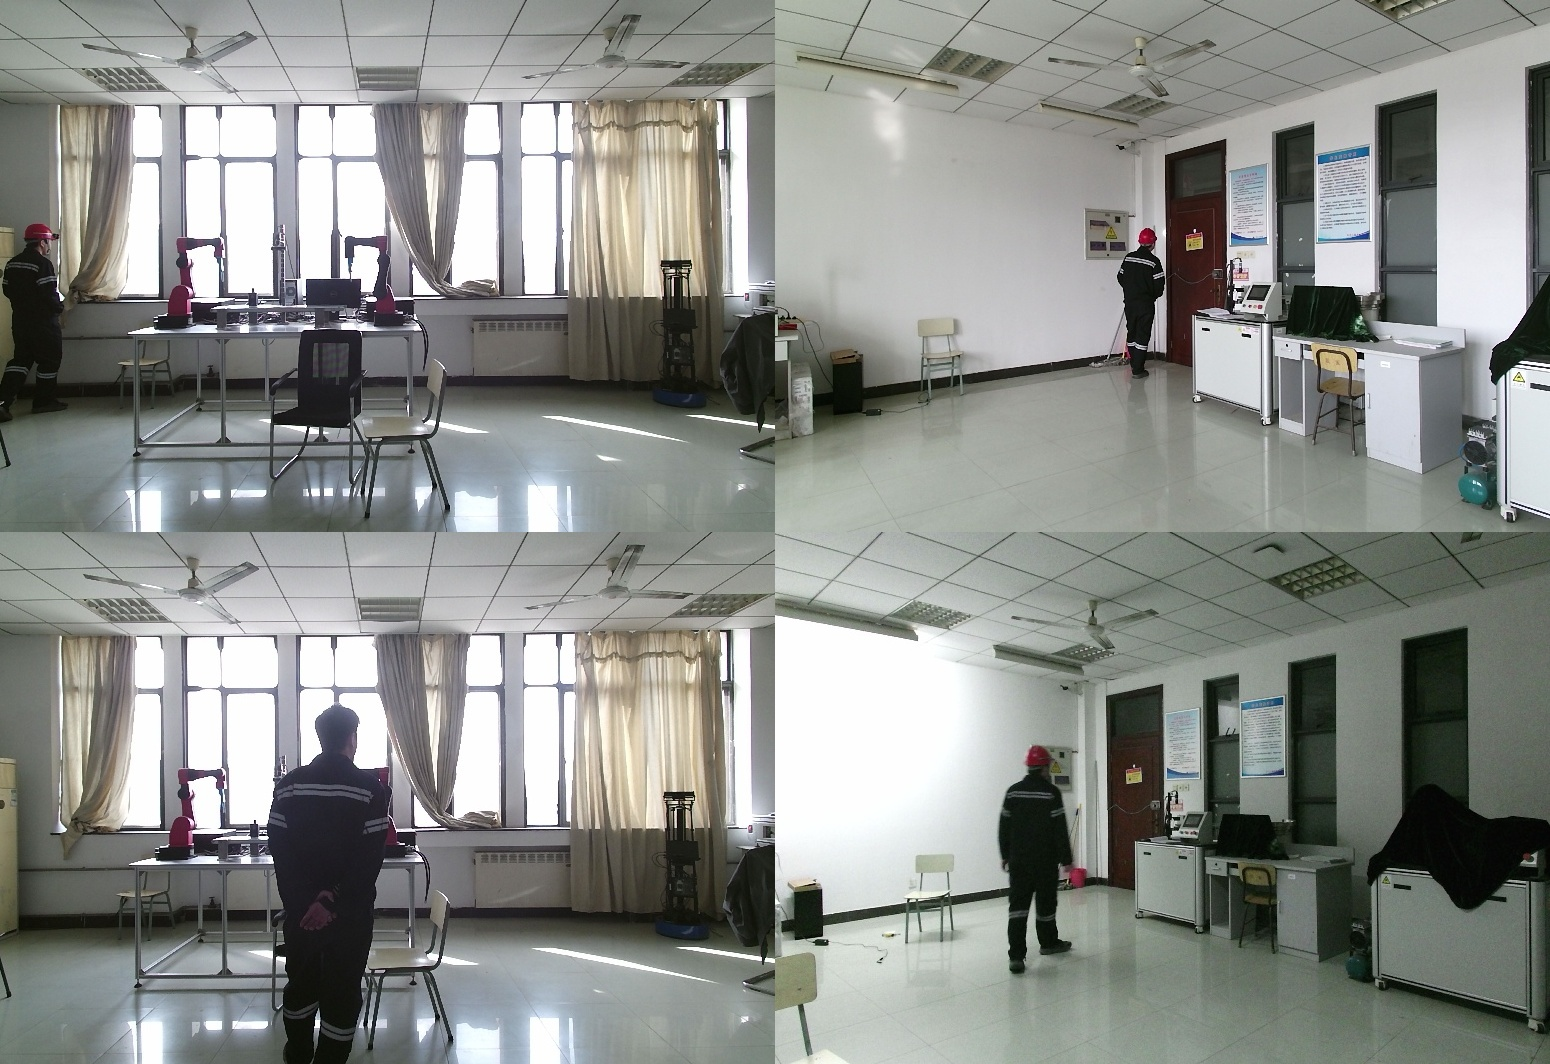person: (265, 705, 413, 1064), (987, 747, 1070, 976), (4, 226, 71, 412), (1116, 229, 1165, 380)
